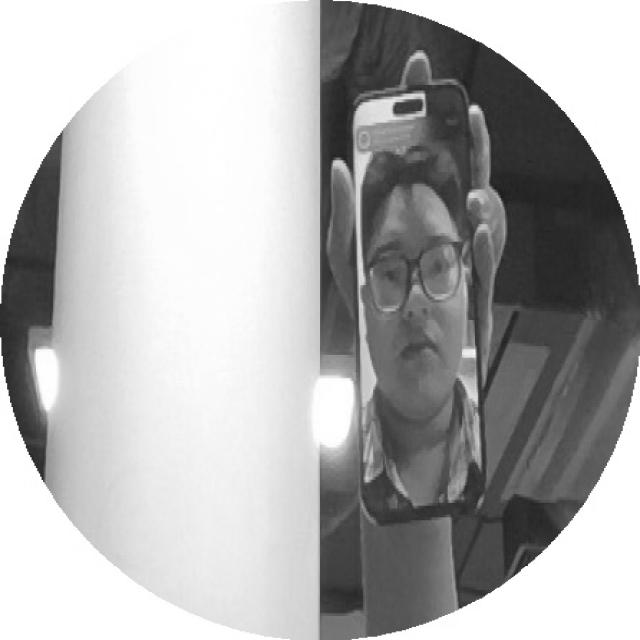fake: (316, 70, 514, 527), (340, 75, 488, 529)
